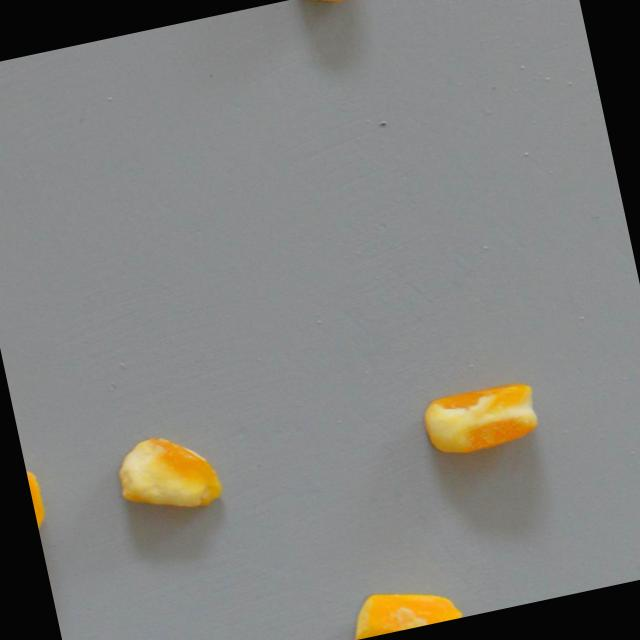dañado: (105, 418, 230, 529), (415, 373, 549, 464), (337, 573, 469, 640), (290, 0, 375, 19)
punto_negro: (22, 454, 55, 539)
